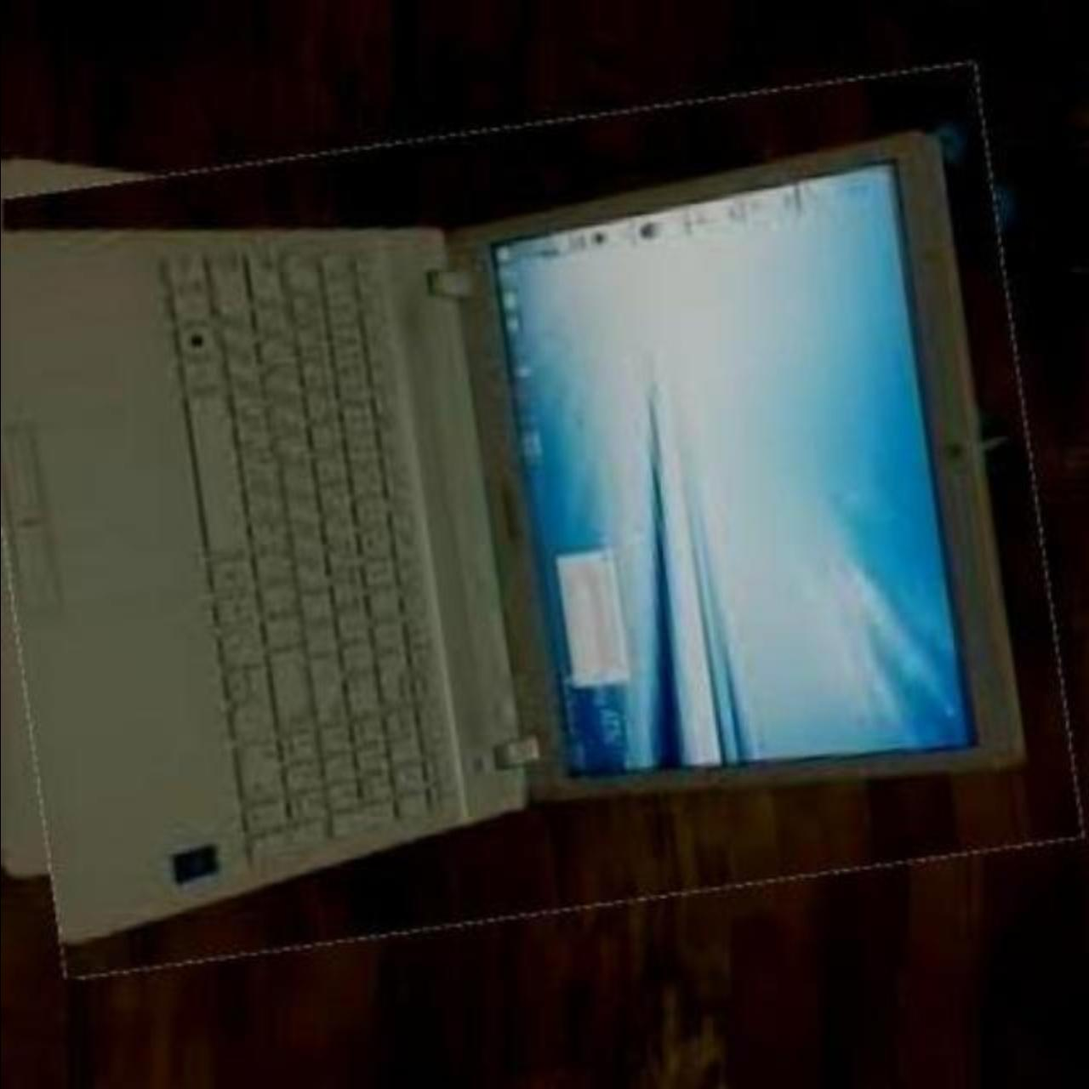laptop: (1, 94, 1061, 944)
